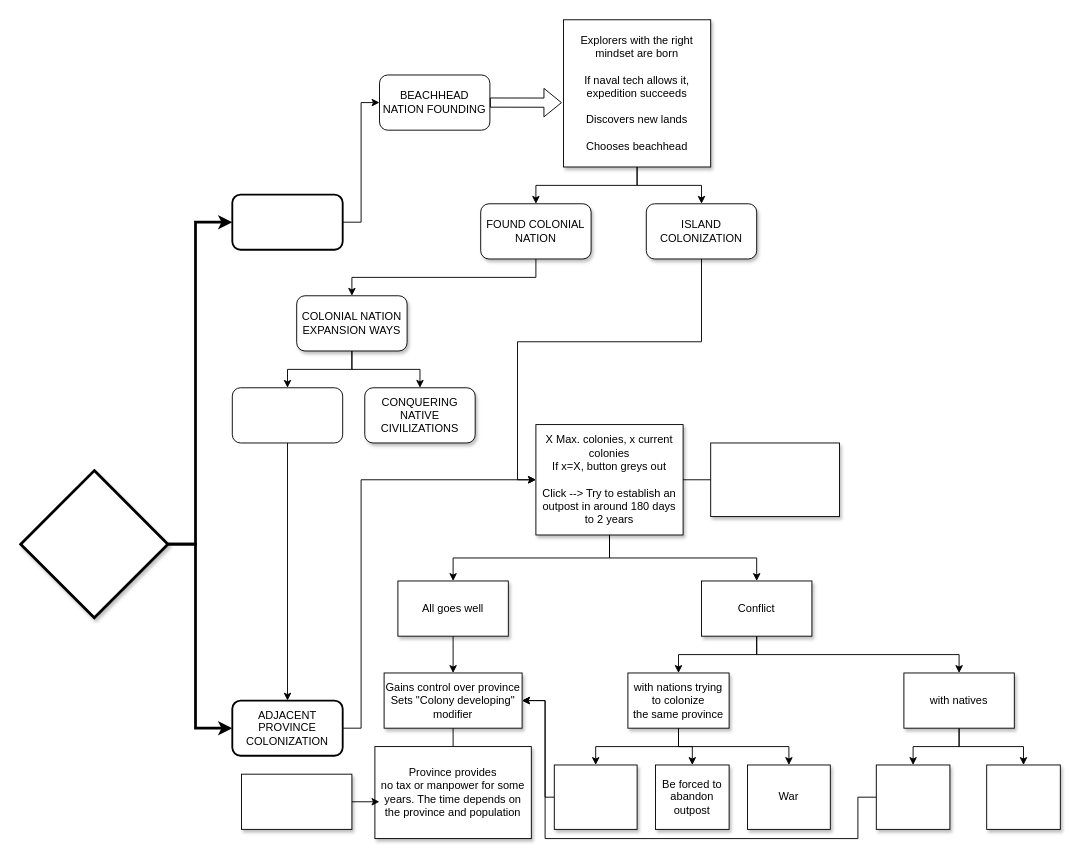
This 1082x862 diagram has some shape labels left out. The shapes that lost their labels are listed below. From the top down, each one's centre as x and y in pixels, then its label:
point 287,221: OVERSEAS COLONIZATION
point 287,415: COLONIZING
point 775,480: Base time depends on attitude toward natives, province size, terrain and RNG
point 94,545: COLONIZATION
point 297,803: This modified can be used to trigger events
point 596,798: Force nation to abandon outpost
point 913,798: Spend gold, men, and/or time
point 1024,798: Abandon outpost
